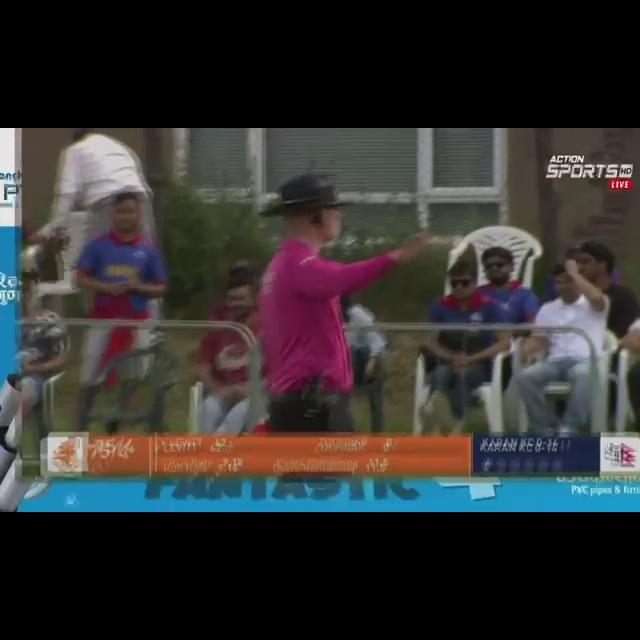umpire: (220, 154, 472, 426)
